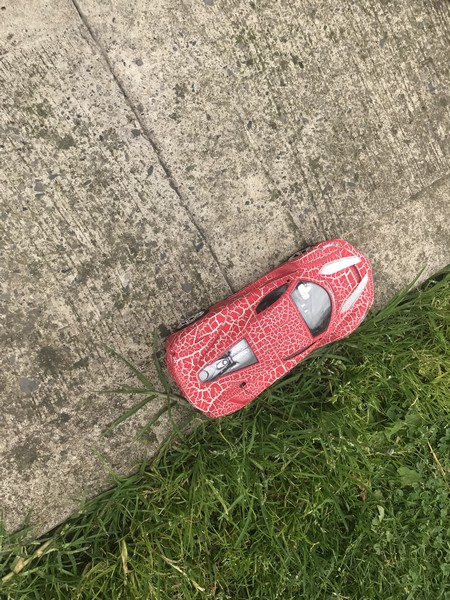RC: (162, 237, 377, 424)
